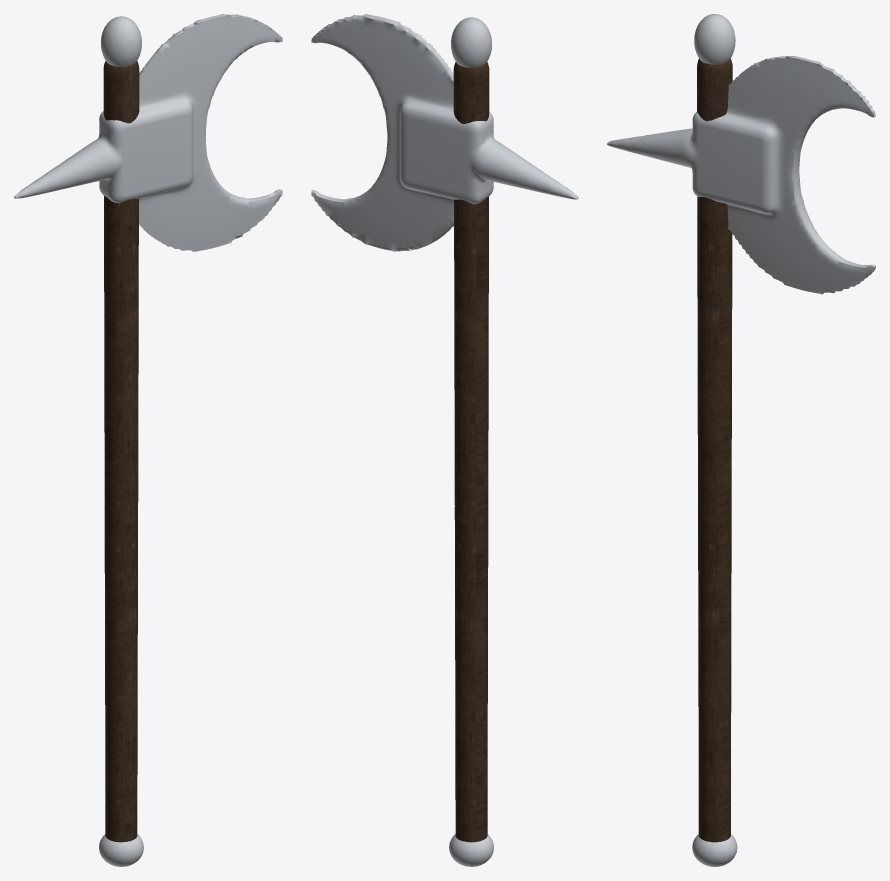
File: w-axe.glb
The picture shows the model from 3 angles, left to right: view 1: azimuth 30°, elevation 25°; view 2: azimuth 150°, elevation 25°; view 3: azimuth 330°, elevation 25°; orthographic projection.
Visible parts, largest first — view 1: w-axe; view 2: w-axe; view 3: w-axe.
Part boxes in pixels (left/top/right/bottom): w-axe: left=14, top=14, right=282, bottom=866; w-axe: left=311, top=14, right=578, bottom=866; w-axe: left=607, top=14, right=875, bottom=866.
Bounding box in the file's own units: 0.3268 × 0.9897 × 0.0477.
Materials: 2 (1 with a texture image).
